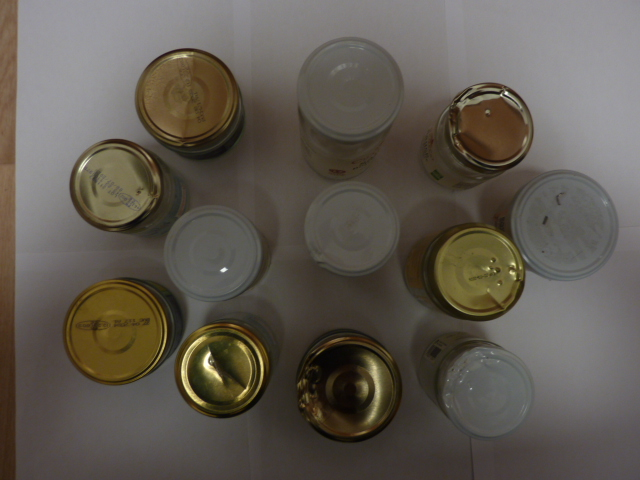damaged: (68, 138, 165, 228), (440, 346, 534, 438)
intact: (161, 204, 263, 302)
